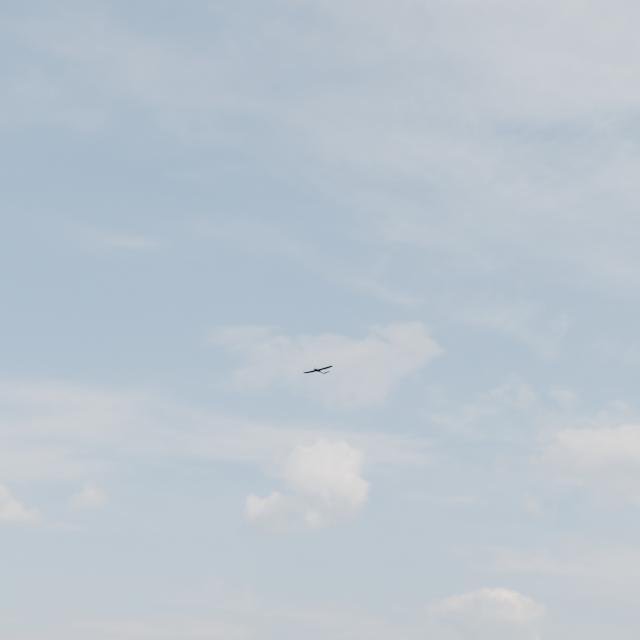Airaplan: (303, 365, 333, 374)
